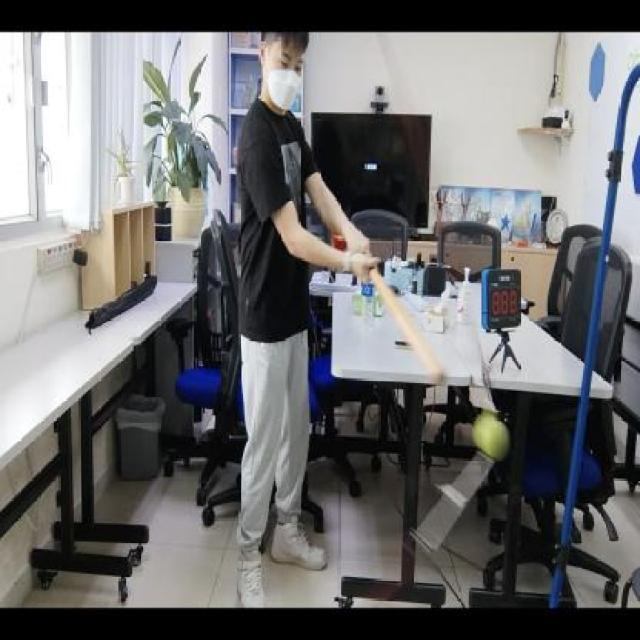bat: (368, 264, 448, 388), (476, 416, 512, 464)
